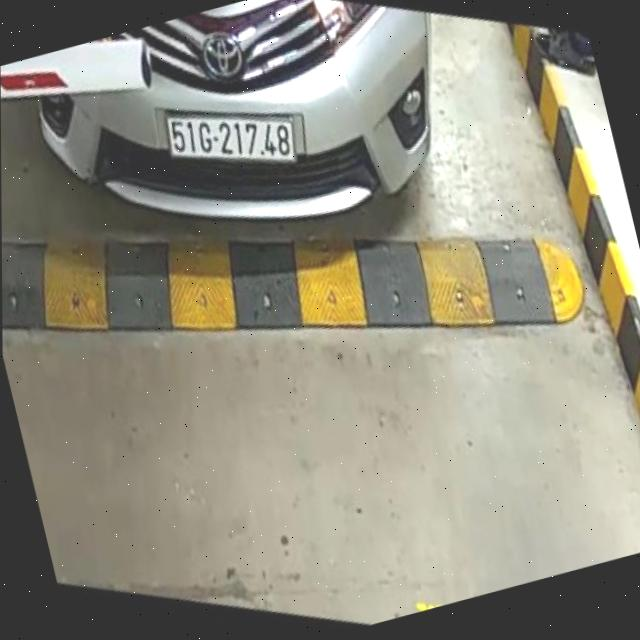car: (5, 0, 493, 306)
plate: (154, 80, 309, 200)
